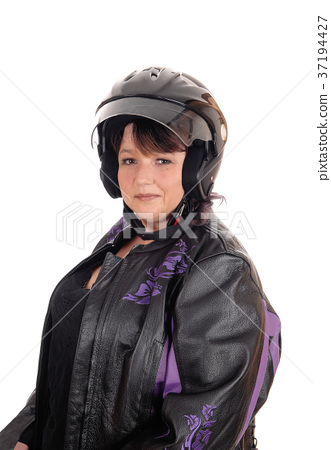helmet: (89, 78, 233, 196)
